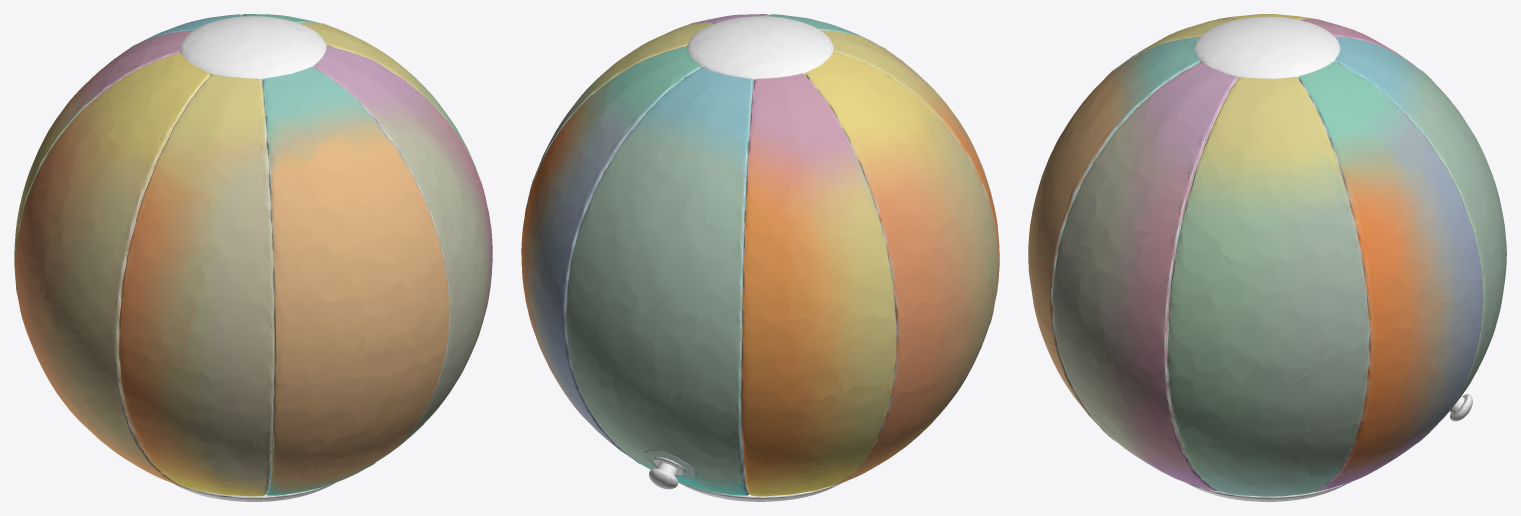
Rendered from meshy-1795797346328.glb.
3 views of the same model, side by side, from view 1: azimuth 30°, elevation 25°; view 2: azimuth 150°, elevation 25°; view 3: azimuth 270°, elevation 25° (orthographic).
Bounding box in the file's own units: 1.86 × 1.9 × 1.86.
Materials: 1 (1 with a texture image).
